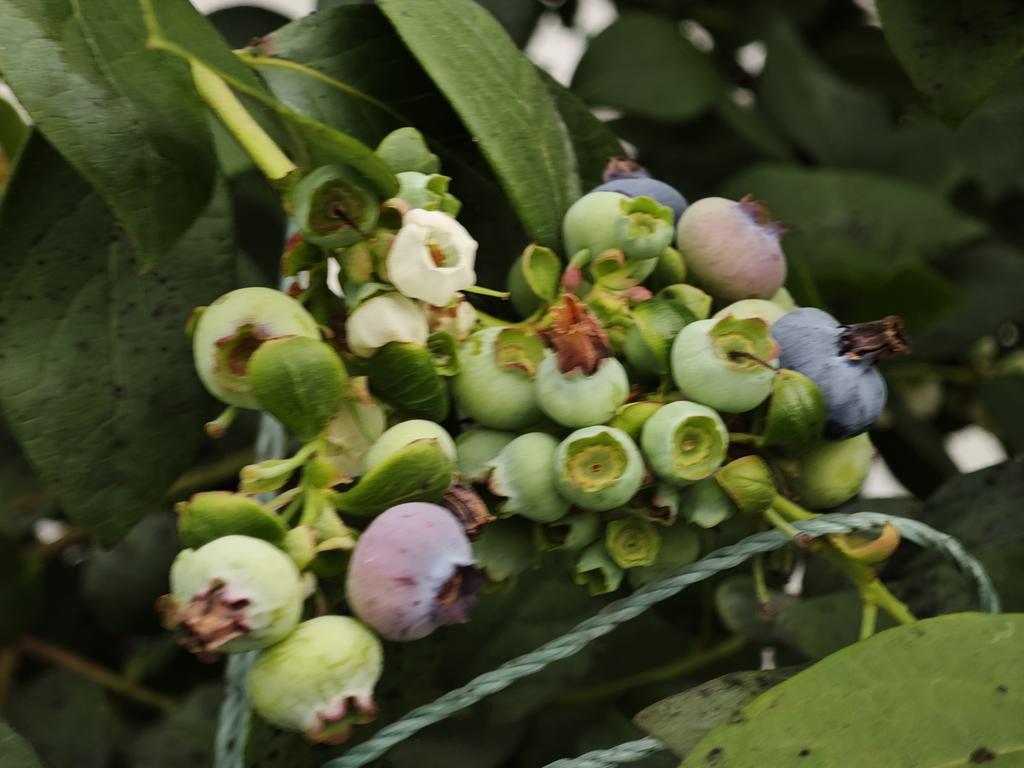RipeBlueBerry: (773, 305, 888, 439)
Semi-RipeBlueBerry: (345, 501, 477, 643), (680, 193, 790, 297)
UnripeBlueBerry: (248, 617, 390, 733), (175, 536, 302, 653), (672, 313, 780, 414)
